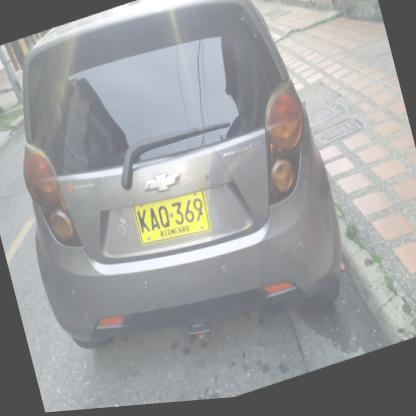placa: (127, 182, 216, 258)
